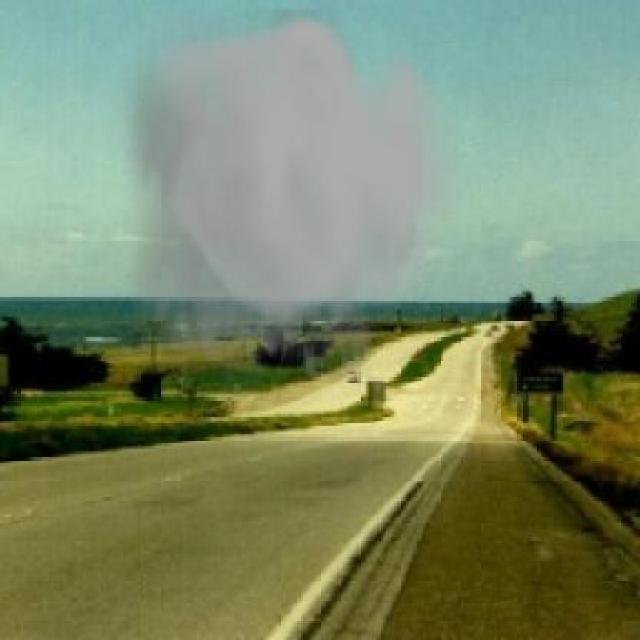smoke: (137, 16, 443, 332)
